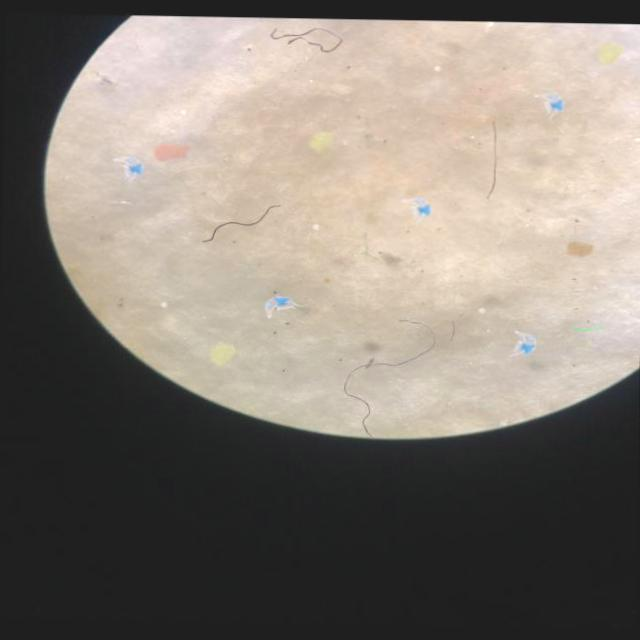fiber: (344, 342, 433, 435), (204, 205, 275, 242), (270, 29, 340, 52), (487, 124, 497, 198)
film: (264, 296, 291, 317), (516, 336, 535, 356), (125, 158, 142, 176), (414, 199, 429, 216), (548, 96, 563, 112)
fragment: (210, 343, 234, 365), (155, 145, 186, 161), (309, 133, 330, 151), (599, 46, 620, 64), (567, 241, 592, 256)
pellet: (432, 66, 440, 72), (180, 110, 186, 115), (161, 302, 166, 307), (478, 308, 483, 312), (313, 225, 317, 229)
